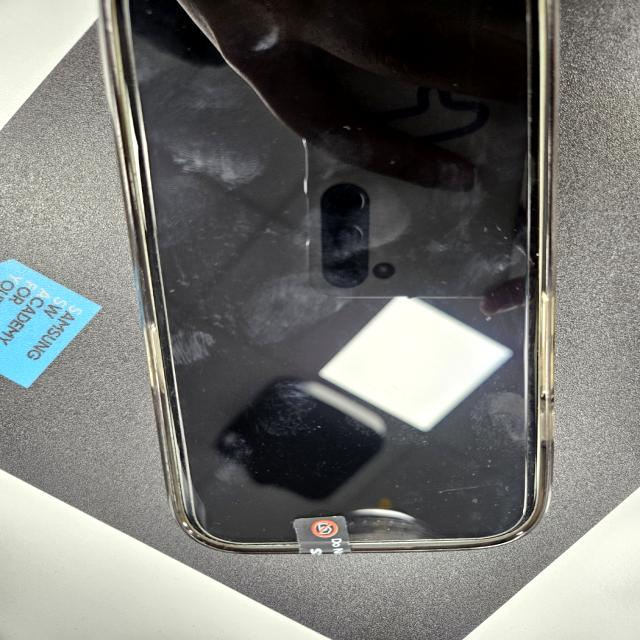phone: (95, 0, 555, 543)
sticker: (294, 512, 351, 558)
